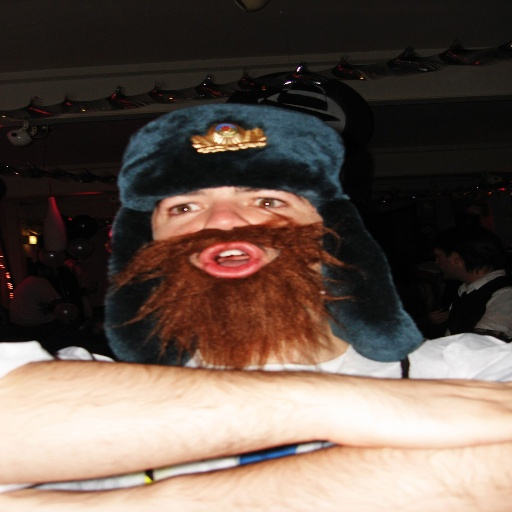hand: (0, 365, 498, 495), (0, 490, 96, 511)
